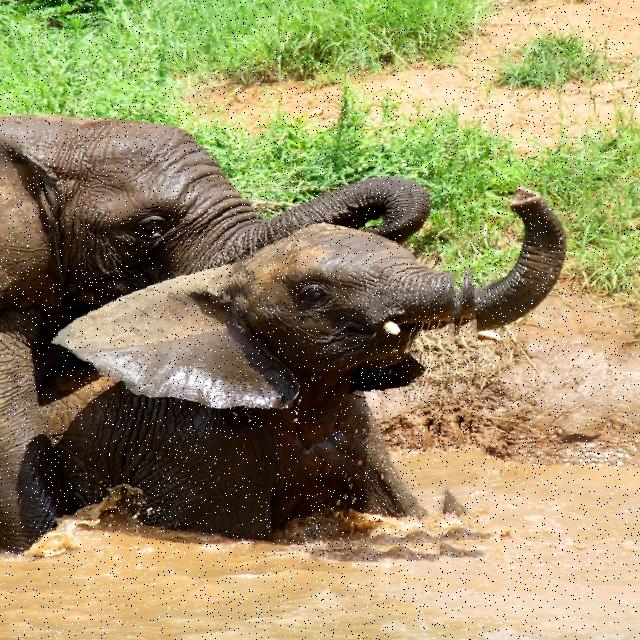elephant: (0, 75, 482, 563)
